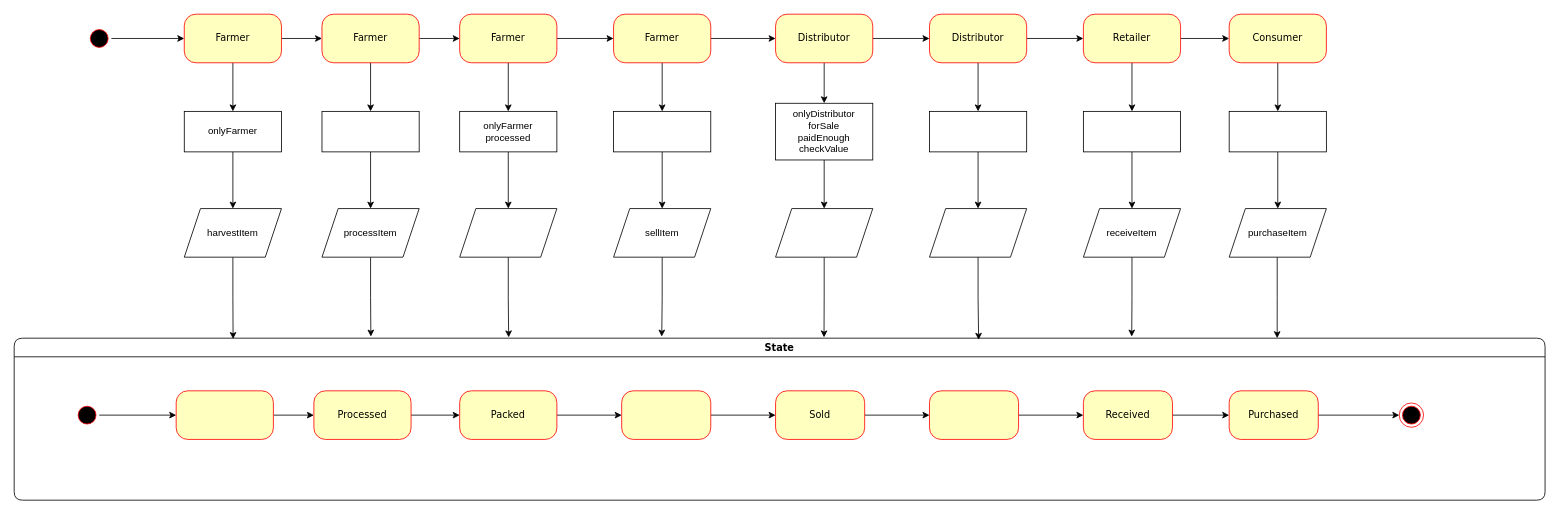
Some shapes in this 1559 by 514 pixel diagram are drawn without their labels. Here are the shapes that lost their labels. From the top down, the centre of each, then its label:
At point (370, 131): "onlyFarmer havested".
At point (662, 131): "onlyFarmer packed".
At point (978, 131): "onlyDistributor sold".
At point (1132, 131): "onlyRetailer shipped".
At point (1277, 131): "onlyConsumer received".
At point (508, 232): "packItem".
At point (824, 232): "buyItem".
At point (978, 232): "shipItem".
At point (224, 414): "Harvested".
At point (666, 414): "ForSale".
At point (974, 414): "Shipped".
